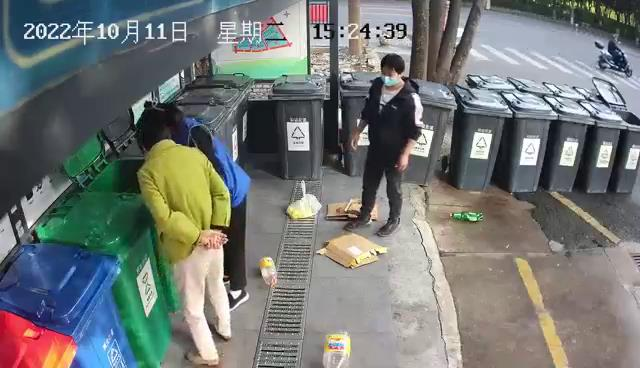garbage-bag: (284, 179, 322, 219)
person: (136, 120, 233, 368), (341, 52, 425, 238)
suliaozhipin: (320, 331, 352, 368), (257, 254, 279, 291), (448, 209, 486, 224)
worker: (142, 97, 252, 311)
zhizhipin: (314, 232, 390, 271), (325, 198, 380, 223)
